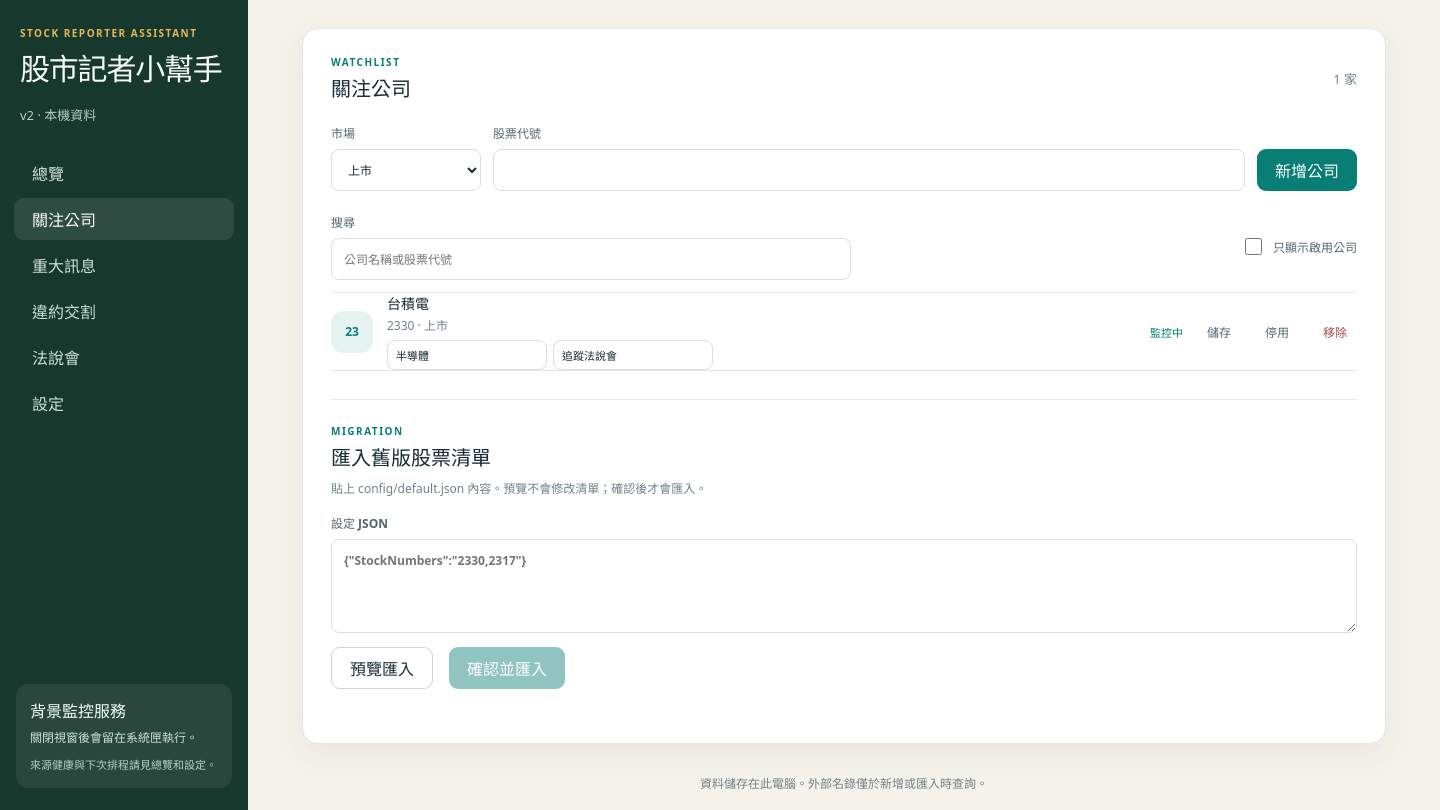
it: watchlist-management / UI › labels a current-date zero-result as no disclosure rather than an error
The image size is (1440, 810).
Step 1. Click the tab "違約交割" → (124, 311), box top-left (14, 290), bottom-right (234, 332)
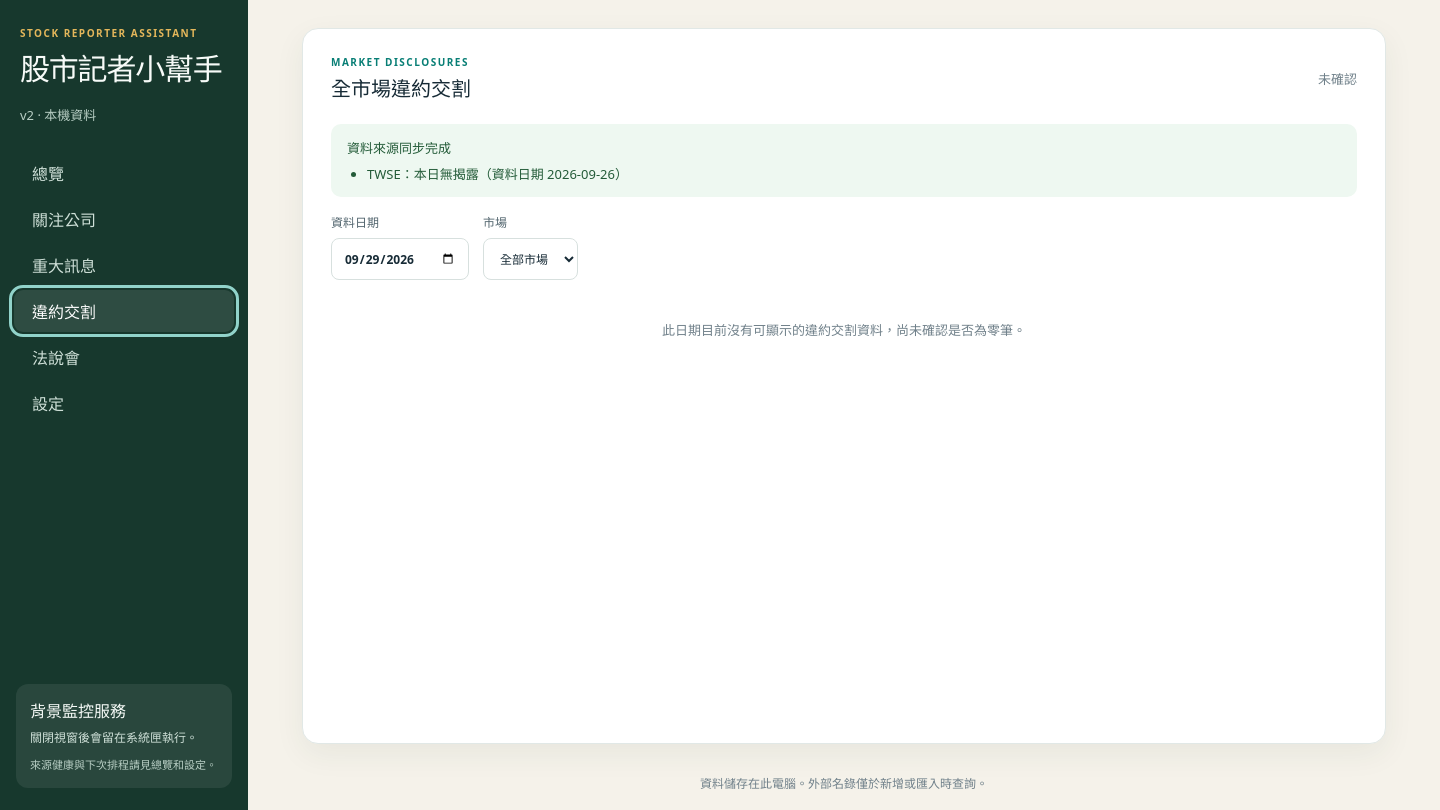
Step 2. Type "2026-09-26" into the date field named "違約交割資料日期" → (400, 259), box top-left (331, 238), bottom-right (469, 280)
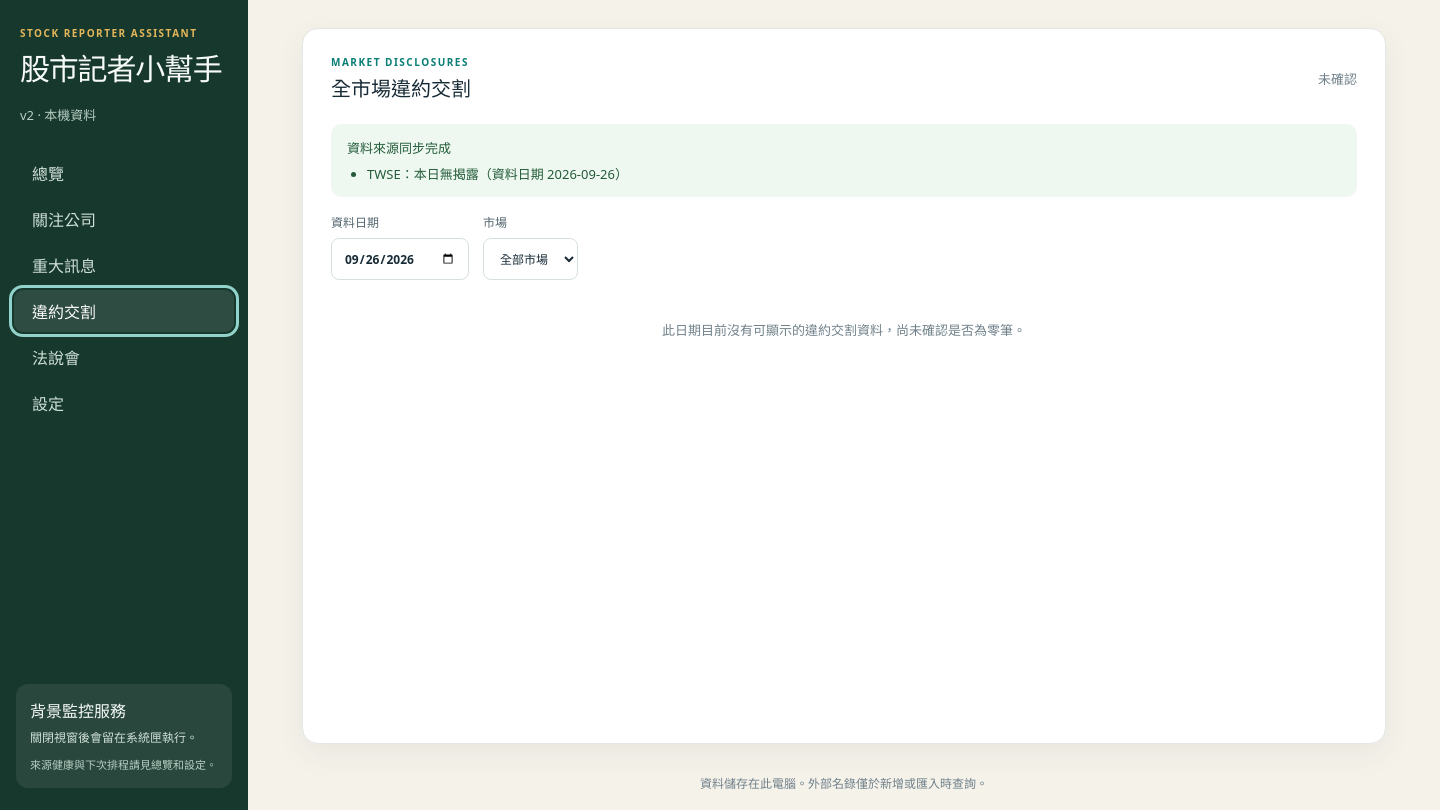
Step 3. Select "上市" in the dropdown named "違約交割市場" → (530, 259), box top-left (483, 238), bottom-right (578, 280)
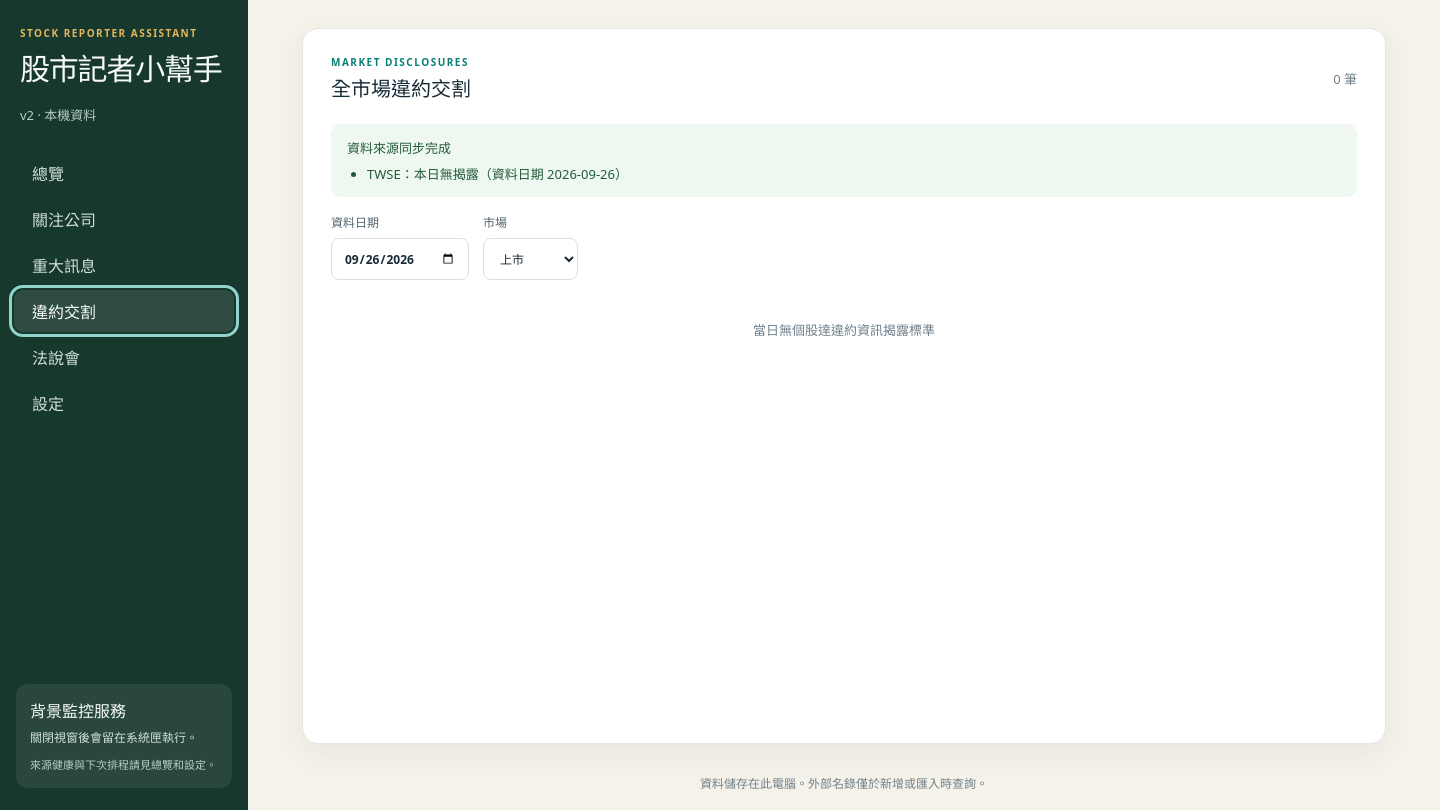
expect the message named "違約交割來源狀態" shows "TWSE：本日無揭露": met, box top-left (331, 124), bottom-right (1357, 197)
expect the text "當日無個股達違約資訊揭露標準" is shown: met, box top-left (753, 321), bottom-right (935, 339)
